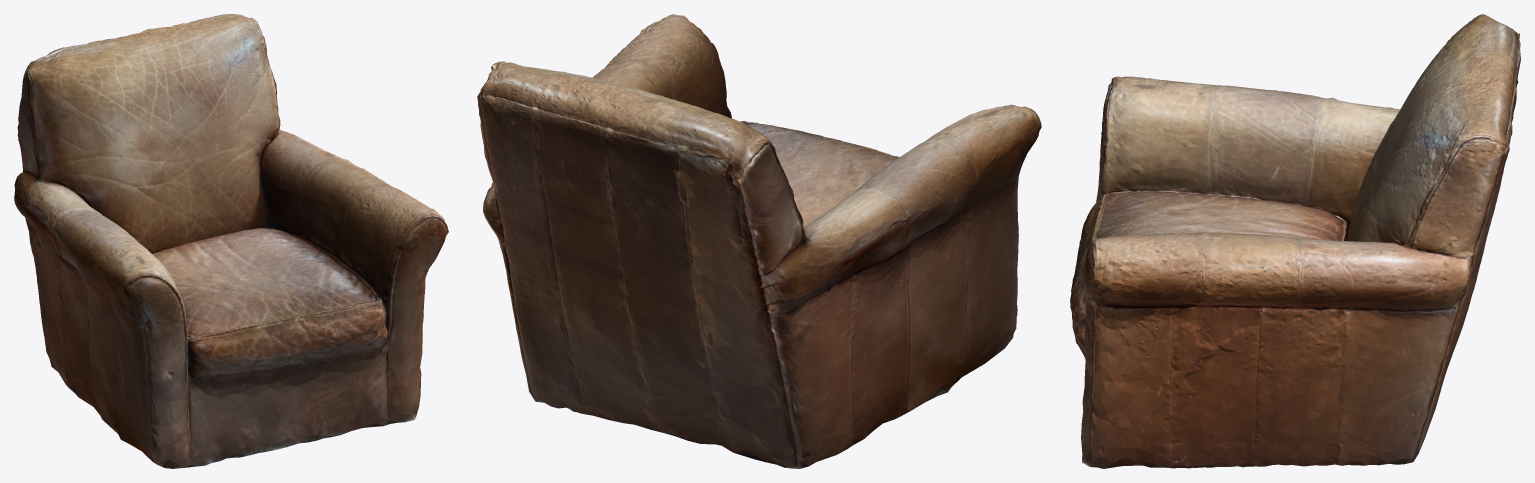
File: Old_Leather_Armchair.glb
The picture shows the model from 3 angles, left to right: view 1: azimuth 30°, elevation 25°; view 2: azimuth 150°, elevation 25°; view 3: azimuth 270°, elevation 25°; orthographic projection. The views are drawn at different scales.
Size of the model in its own units: 0.9712 by 0.8352 by 1.02.
1 material, 1 textured.
